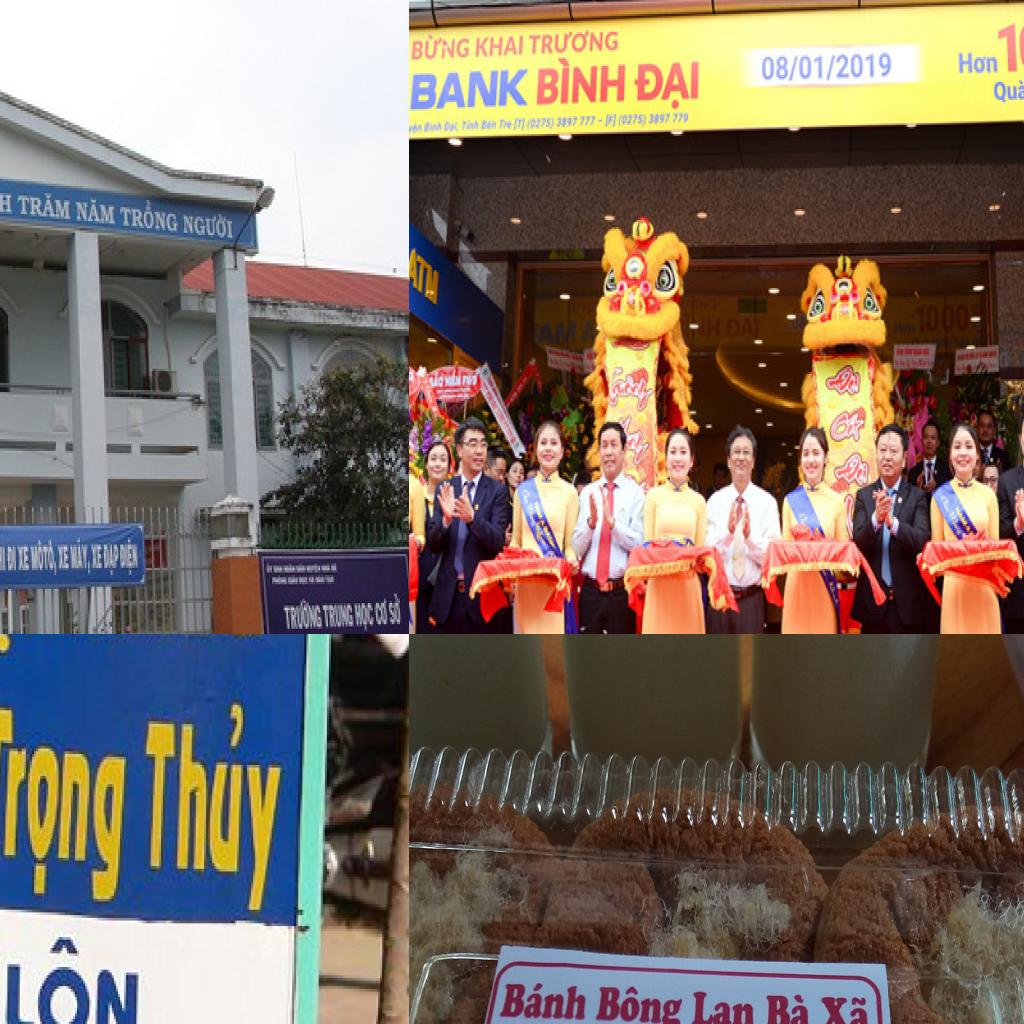text: (139, 692, 298, 924), (0, 683, 130, 915), (1, 931, 148, 1024), (409, 64, 530, 114), (762, 48, 897, 88), (536, 57, 630, 113), (497, 972, 589, 1022), (588, 980, 684, 1024), (633, 55, 703, 111), (530, 24, 622, 60), (179, 207, 240, 252), (688, 986, 753, 1024), (409, 243, 442, 309), (118, 198, 180, 233), (409, 30, 471, 64), (18, 191, 74, 228), (914, 300, 974, 334), (995, 16, 1024, 77), (761, 988, 810, 1024), (832, 449, 874, 490), (75, 195, 120, 233), (280, 598, 326, 634), (819, 992, 870, 1024), (476, 30, 526, 62), (824, 360, 864, 400), (616, 109, 690, 130), (526, 113, 598, 134), (828, 408, 867, 445), (956, 50, 1000, 78), (538, 320, 579, 349), (30, 540, 60, 577), (118, 540, 142, 586), (726, 315, 764, 343), (684, 315, 723, 342), (991, 76, 1024, 107), (326, 601, 356, 634), (70, 540, 93, 577), (102, 542, 122, 580), (357, 598, 376, 634), (0, 183, 16, 221), (389, 596, 406, 631), (376, 594, 392, 629), (946, 512, 966, 540), (579, 320, 598, 347), (56, 544, 70, 578), (6, 542, 20, 575), (91, 542, 104, 577), (893, 318, 918, 336), (953, 504, 971, 528), (526, 503, 540, 531), (444, 369, 462, 388), (20, 542, 30, 575), (480, 116, 498, 134), (423, 120, 443, 136), (939, 494, 953, 515), (462, 118, 480, 134), (512, 116, 528, 134), (429, 372, 445, 390), (409, 119, 424, 137), (605, 111, 619, 130), (444, 120, 460, 136), (498, 118, 514, 134), (520, 489, 533, 508), (0, 542, 7, 577), (533, 501, 545, 521), (964, 524, 974, 534), (540, 519, 547, 530), (598, 118, 605, 125)
